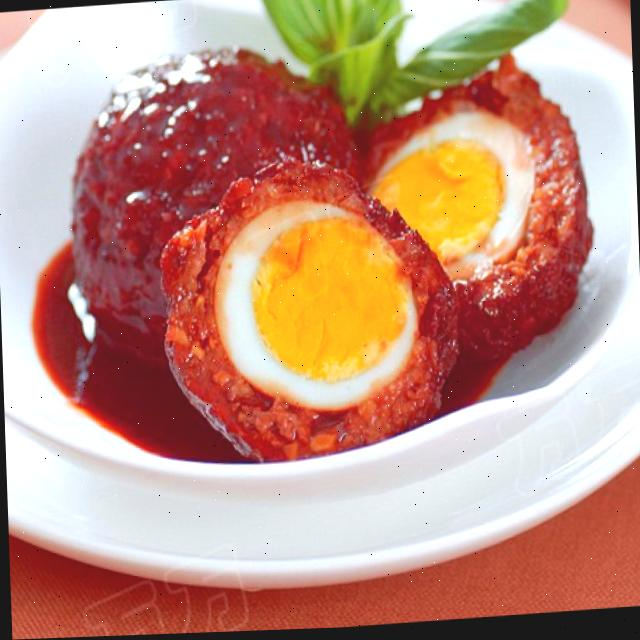猪肉菜式: (7, 0, 636, 528)
